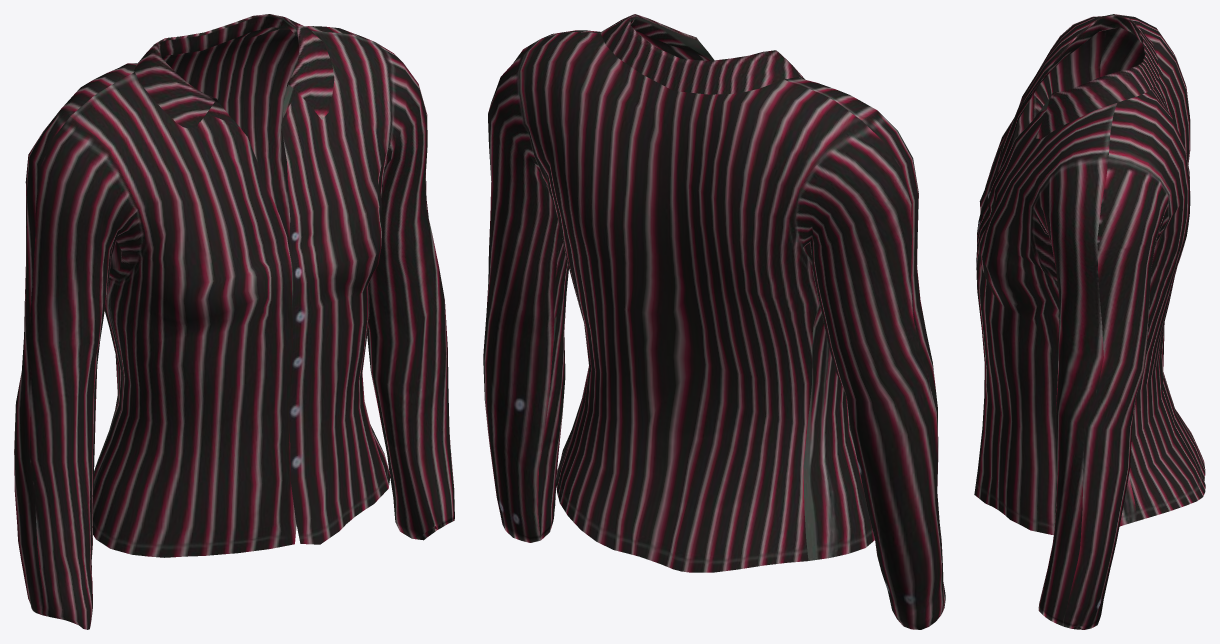
Rendered from top_striped_blouse.gltf.
3 views of the same model, side by side, from view 1: azimuth 30°, elevation 25°; view 2: azimuth 150°, elevation 25°; view 3: azimuth 270°, elevation 25° (orthographic). The views are drawn at different scales.
Parts seen in each view (by area): view 1: top_striped_blouse; view 2: top_striped_blouse; view 3: top_striped_blouse.
Part boxes in pixels (<box>): top_striped_blouse: <box>14,14,454,629</box>; top_striped_blouse: <box>483,14,945,629</box>; top_striped_blouse: <box>974,14,1205,629</box>.
Size of the model in its own units: 0.4935 by 0.593 by 0.2484.
Materials: 1 (1 with a texture image).
